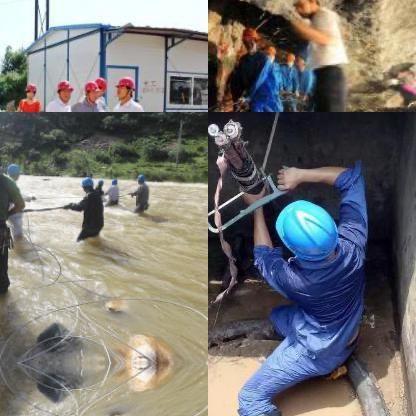Helmet: (270, 194, 340, 262), (114, 72, 134, 100), (240, 24, 260, 52), (290, 0, 321, 17), (52, 75, 72, 99), (82, 78, 99, 102), (3, 160, 21, 180), (78, 174, 93, 192), (22, 80, 36, 98), (94, 75, 106, 95), (263, 42, 275, 58), (283, 47, 293, 65), (133, 171, 145, 183), (109, 174, 117, 186)
